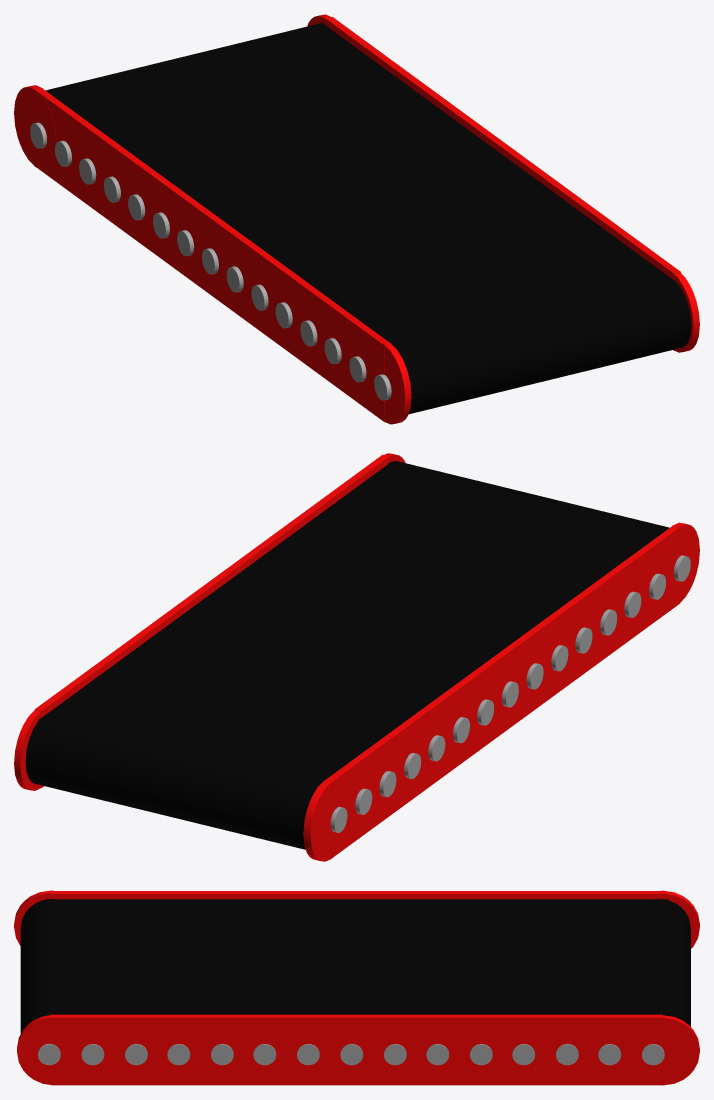
Rendered from poppy_playtime__project_playtime_conveyor.glb.
3 renders of one model, top to bottom at view 1: azimuth 30°, elevation 25°; view 2: azimuth 150°, elevation 25°; view 3: azimuth 270°, elevation 25°, orthographic. The views are drawn at different scales.
Visible parts, largest first — view 1: Object_2, Object_4, Object_5, Object_3; view 2: Object_2, Object_4, Object_5, Object_3; view 3: Object_2, Object_4, Object_5, Object_3.
Boxes of the visible parts, box(x1,y1,x2,y2) form: Object_2: box(45, 23, 676, 350); Object_4: box(14, 14, 699, 424); Object_5: box(49, 26, 691, 414); Object_3: box(30, 122, 391, 400); Object_2: box(38, 461, 667, 787); Object_4: box(14, 453, 699, 861); Object_5: box(25, 461, 669, 849); Object_3: box(330, 555, 690, 832); Object_2: box(46, 899, 668, 1015); Object_4: box(14, 890, 699, 1085); Object_5: box(20, 899, 690, 1033); Object_3: box(38, 1043, 664, 1065).
Bounding box in the file's own units: 5.12 × 1.25 × 11.44.
